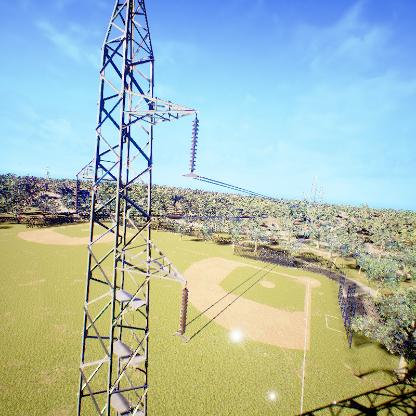insulator: (186, 117, 201, 172), (178, 287, 190, 334), (73, 177, 81, 215)
